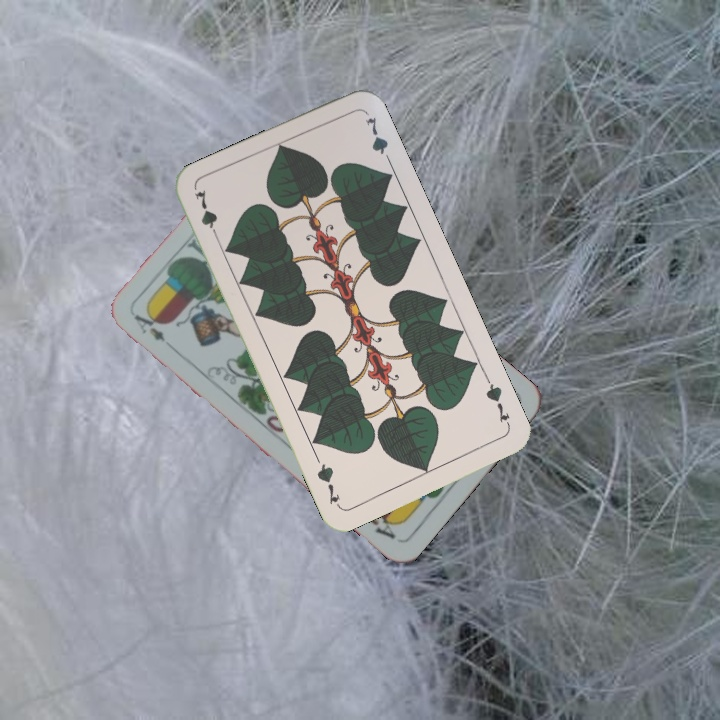EA: (130, 309, 168, 345)
G7: (191, 185, 222, 244), (482, 374, 514, 431)
